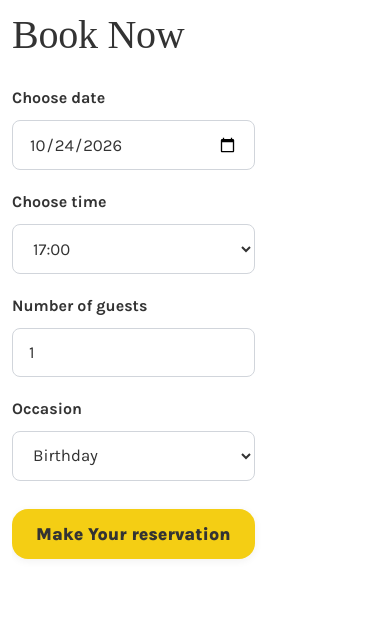
it: BookingForm - Date & Submission Edge Cases › Shows an error alert when submitForm reports failure
Click the button showing "Make Your reservation". click: x=133, y=534
box: [12,509,254,559]
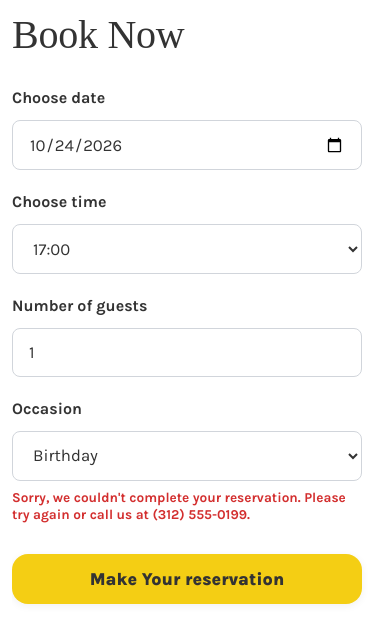
Result: the message shows "couldn't complete your reservation" at [12,490,346,522]
